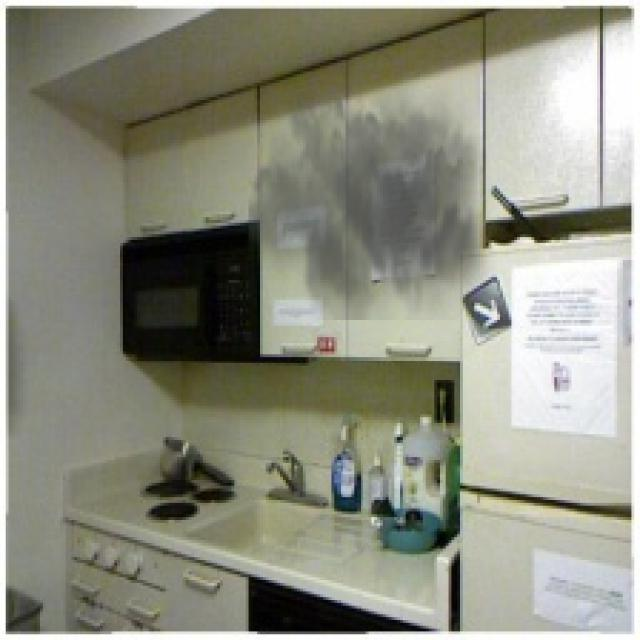smoke: (249, 66, 500, 320)
